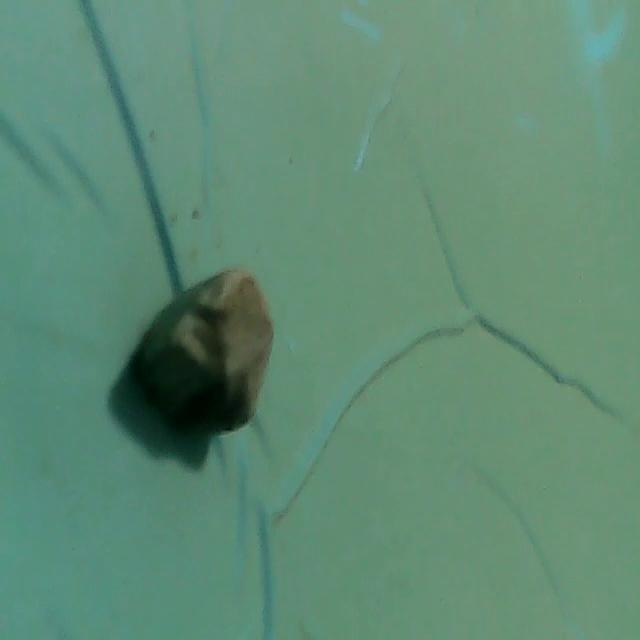rock: (134, 258, 286, 450)
